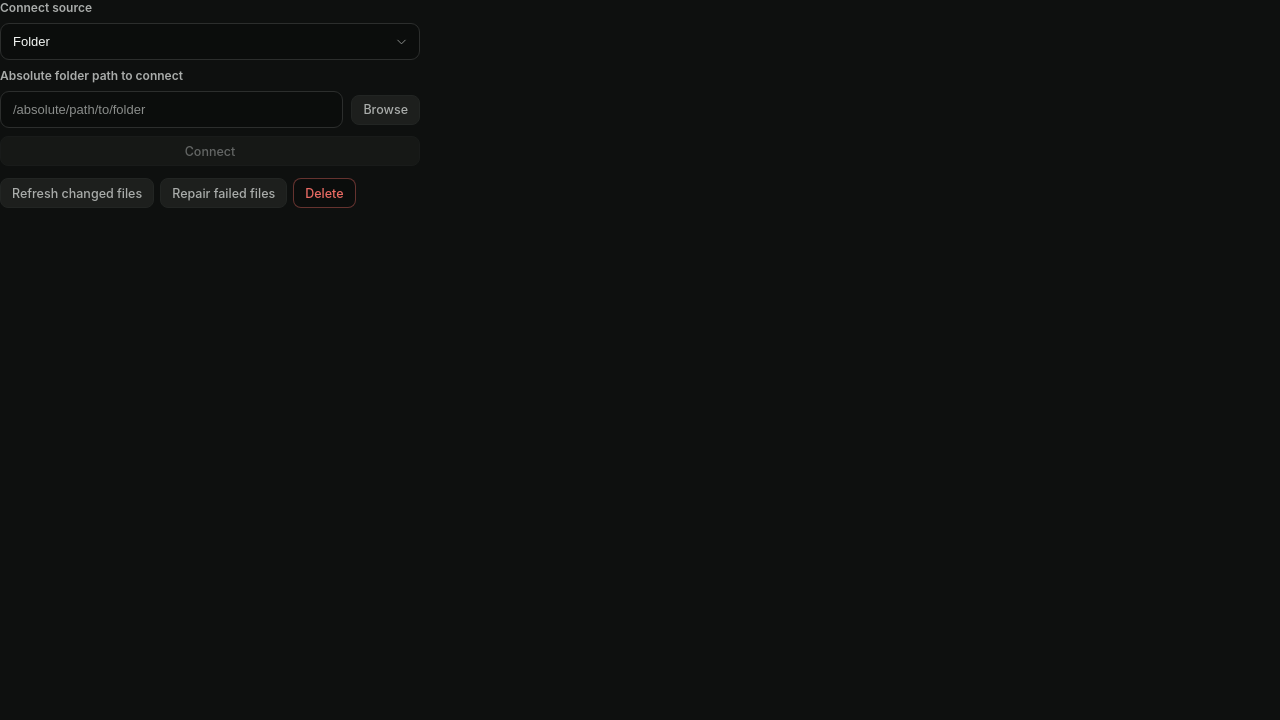
CapsuleActions — modal open and close › opens the repair modal when Repair failed files is clicked
What coordinates should you click on to do the following:
click the button with aria-label "repair failed files for capsule"
I would click on:
 (224, 193)
Its box is [160,178,287,208].
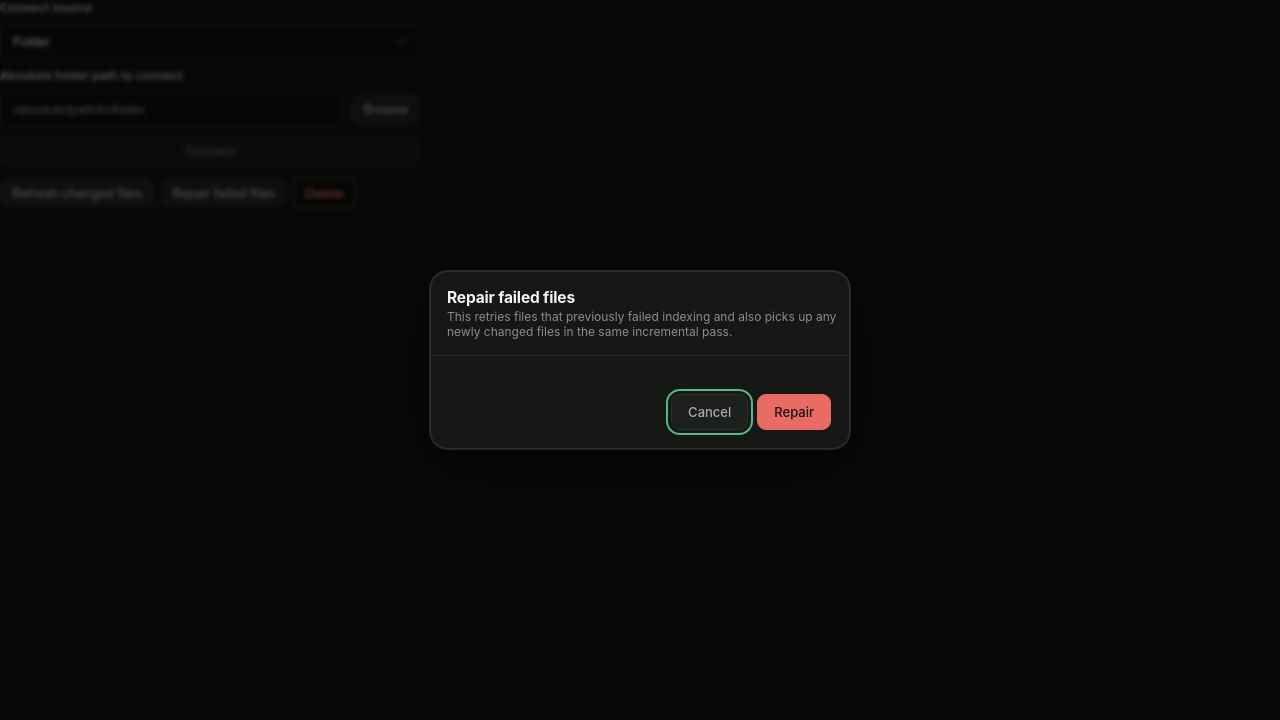
Result: the dialog is shown at [430,271,850,449]
Result: the text "Repair failed files" is shown at [447,288,575,307]
